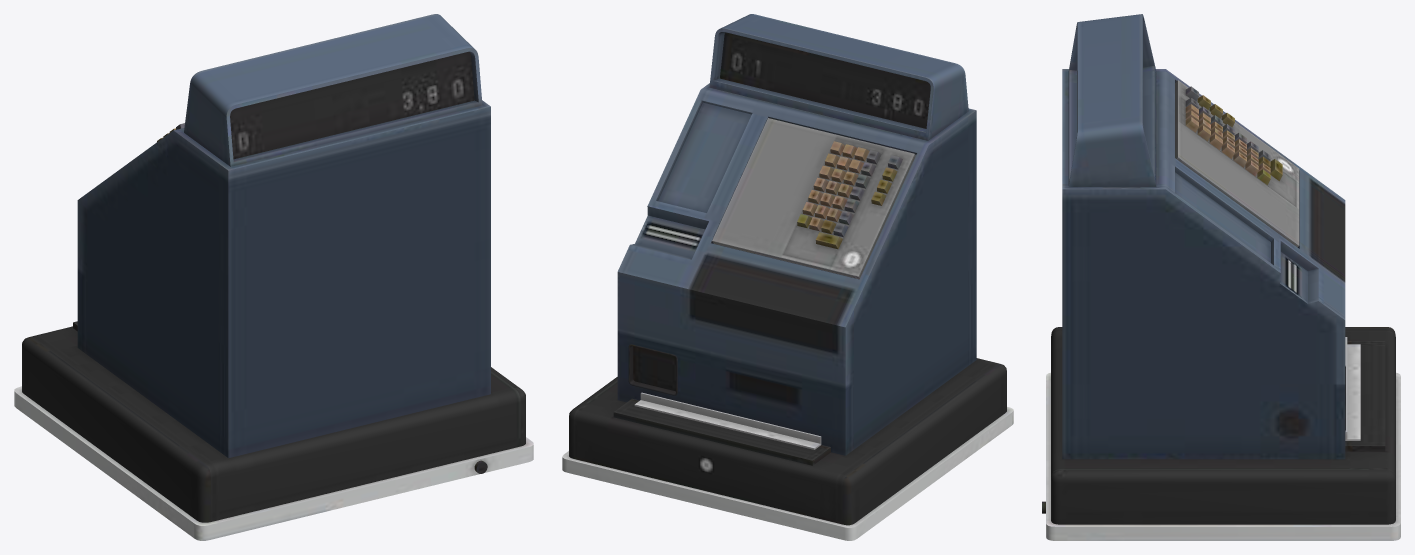
File: 收银机.fbx
3 renders of one model, left to right at view 1: azimuth 30°, elevation 25°; view 2: azimuth 150°, elevation 25°; view 3: azimuth 270°, elevation 25°, orthographic. The views are drawn at different scales.
Visible parts, largest first — view 1: shouyingji; view 2: shouyingji; view 3: shouyingji.
Part boxes in pixels (left/top/right/bottom): shouyingji: left=14, top=14, right=533, bottom=540; shouyingji: left=562, top=14, right=1013, bottom=540; shouyingji: left=1042, top=14, right=1400, bottom=540.
Bounding box in the file's own units: 36.11 × 43.05 × 35.42.
